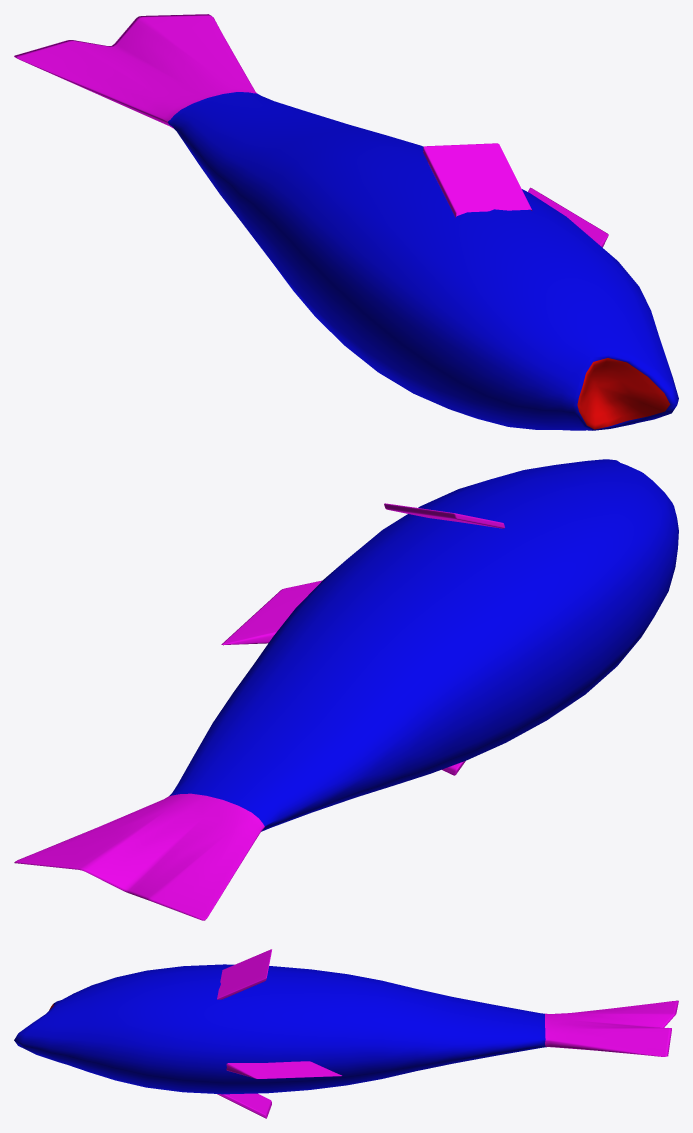
Rendered from fisch_high.fbx.
3 views of the same model, one above another, from view 1: azimuth 30°, elevation 25°; view 2: azimuth 150°, elevation 25°; view 3: azimuth 270°, elevation 25° (orthographic). The views are drawn at different scales.
Visible parts, largest first — view 1: pasted__polySurface4; view 2: pasted__polySurface4; view 3: pasted__polySurface4.
Boxes of the visible parts, x1,y1,x2,y2 form: pasted__polySurface4: (14,14,678,430); pasted__polySurface4: (14,459,678,920); pasted__polySurface4: (14,949,678,1118).
Size of the model in its own units: 0.1879 by 0.1617 by 0.6286.
